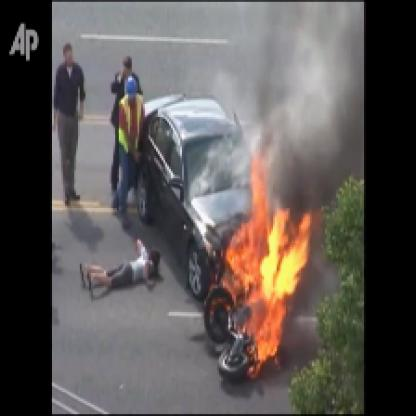Fire: (197, 143, 317, 381)
Smoke: (236, 2, 364, 210)
